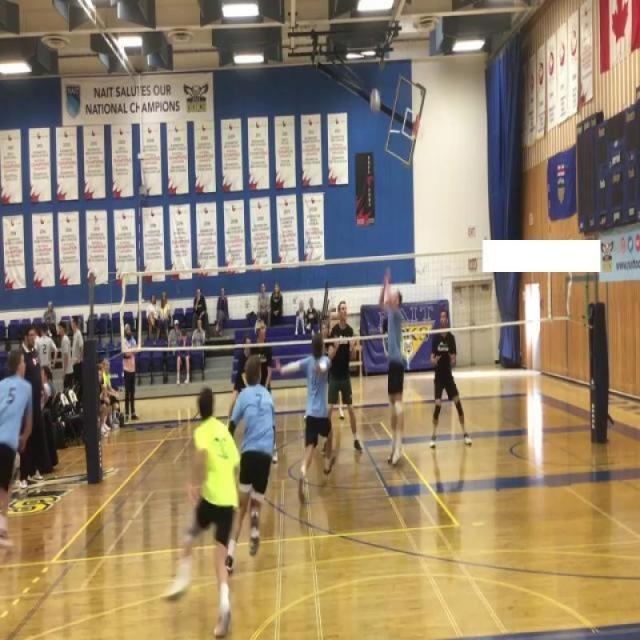volleyball: (369, 85, 382, 116)
